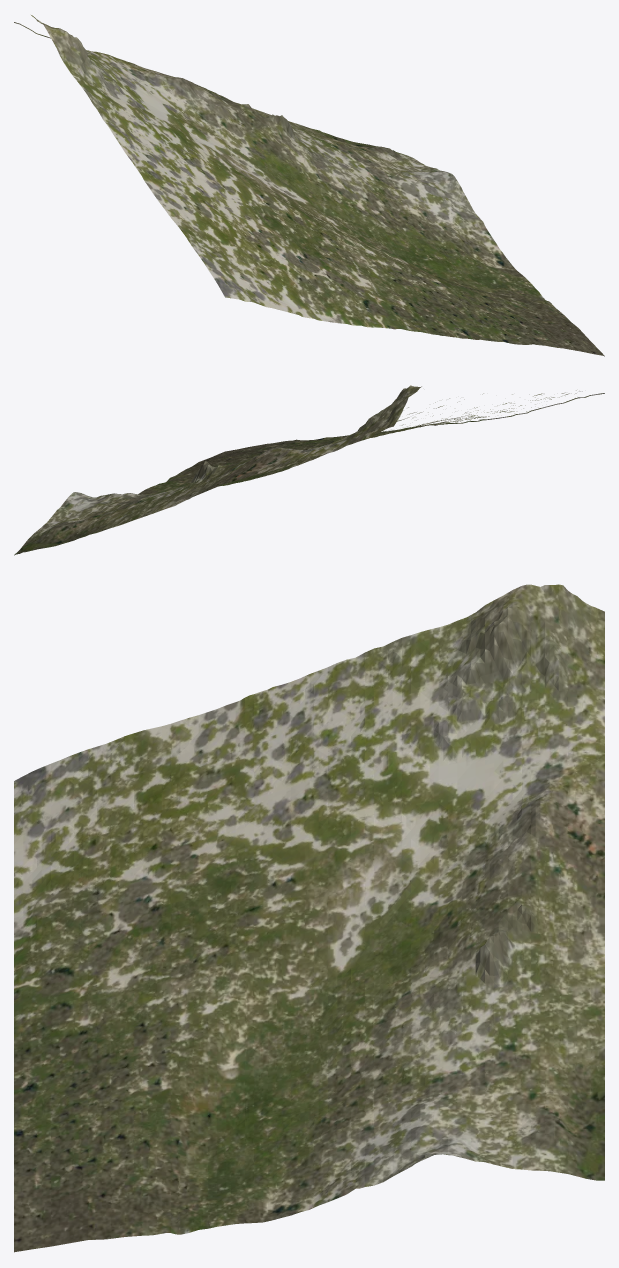
3 views of the same model, one above another, from view 1: azimuth 30°, elevation 25°; view 2: azimuth 150°, elevation 25°; view 3: azimuth 270°, elevation 25° (orthographic). The views are drawn at different scales.
Bounding box in the file's own units: 500 × 368 × 481.
Materials: 1 (1 with a texture image).
